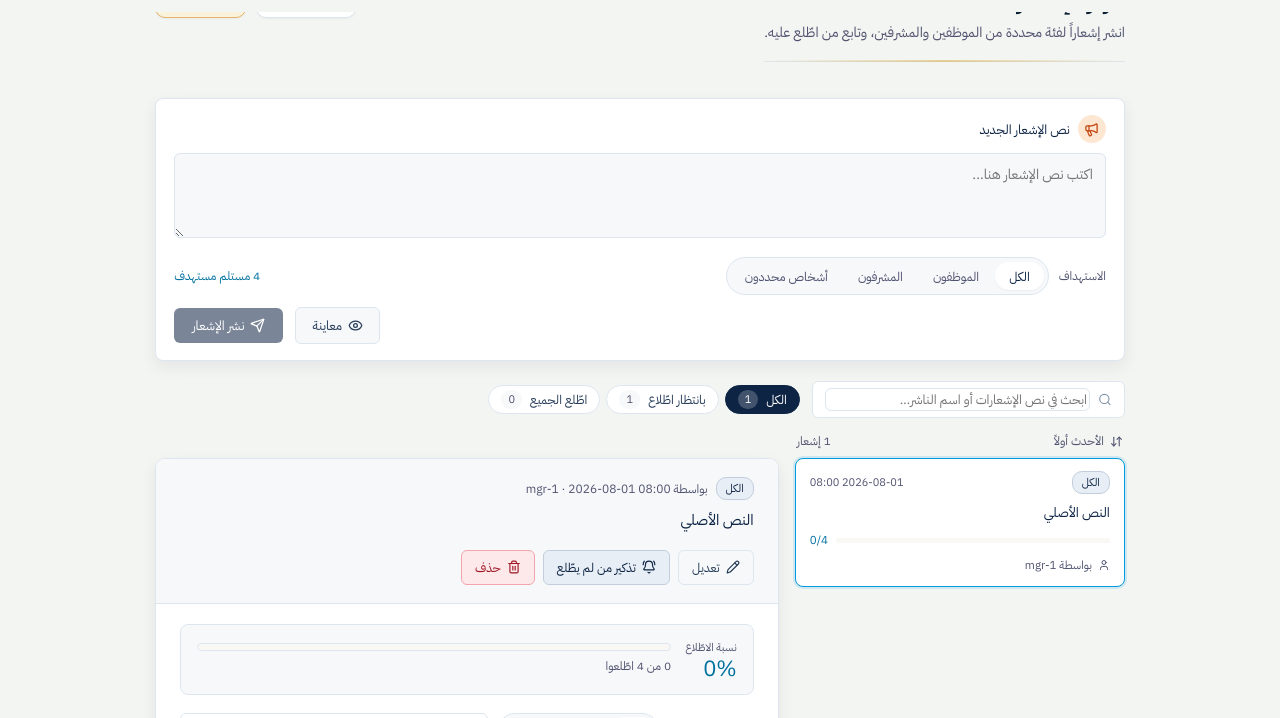
NotificationManager edit action › keeps a draft typed while the edit save was still in flight
(page scrolled)
Click the button "تعديل": click(716, 567) 678,550 -> 754,585
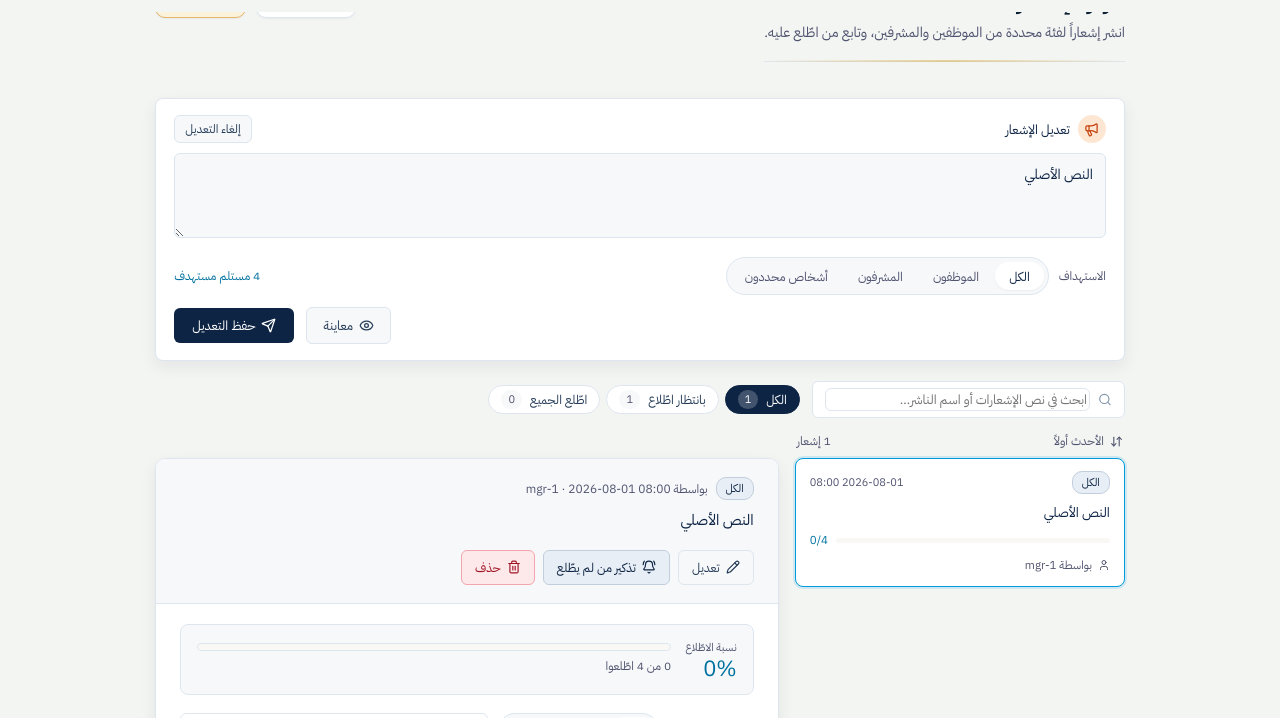
Replace the text in the text box with placeholder "اكتب نص الإشعار هنا..." with "النص المصحح": (640, 196) 174,153 -> 1106,238
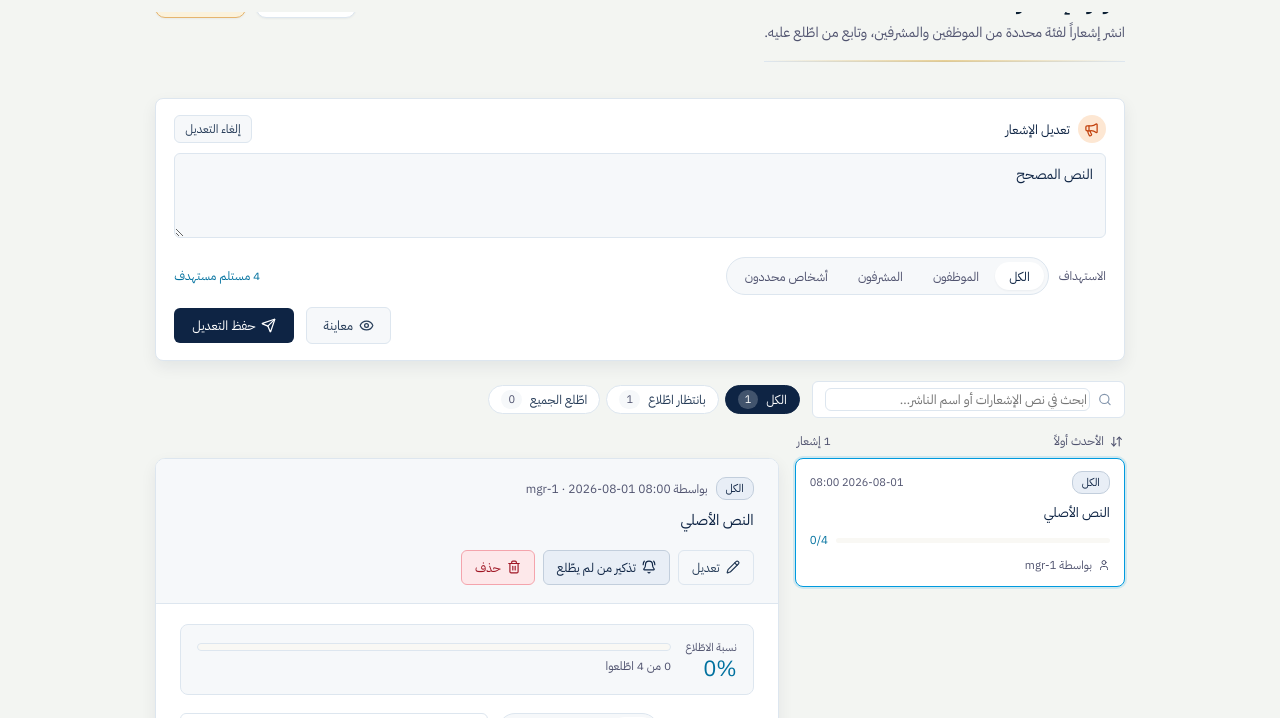
Click the button "حفظ التعديل": click(234, 326) 174,308 -> 294,343
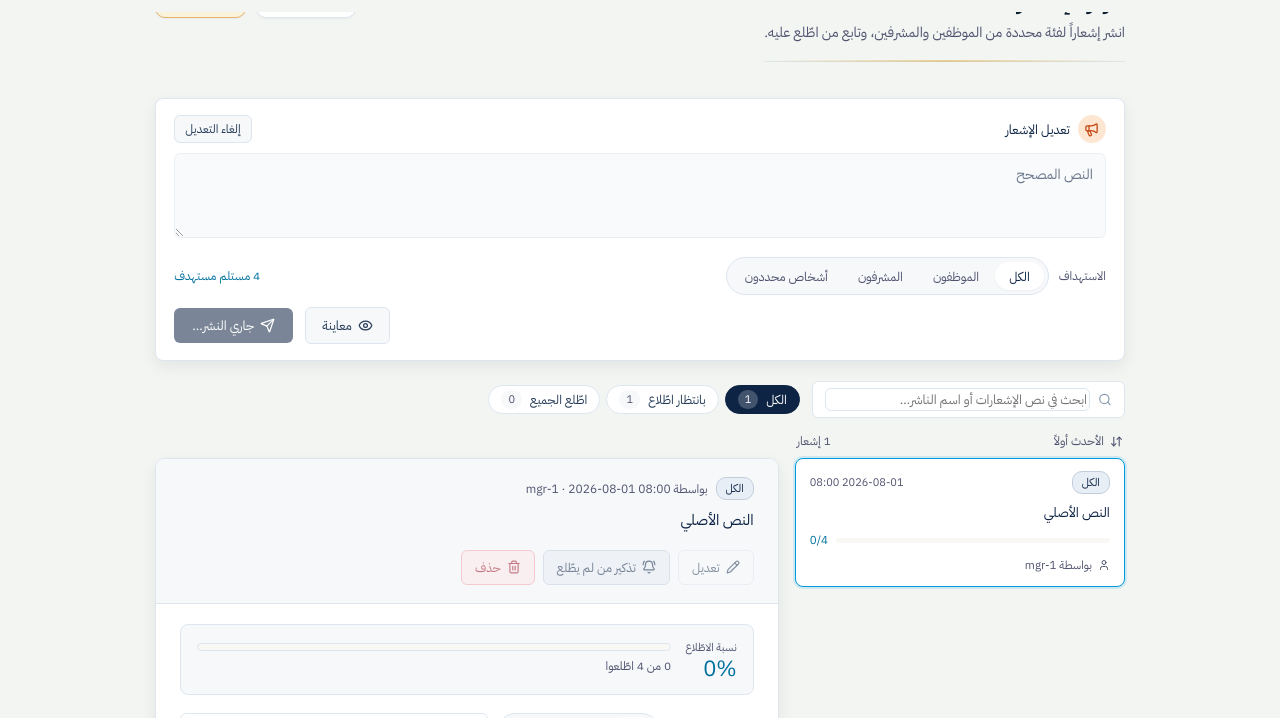
Result: the text box with placeholder "اكتب نص الإشعار هنا..." is disabled
Replace the text in the text box with placeholder "اكتب نص الإشعار هنا..." with "مسودة جديدة أثناء الحفظ": (640, 196) 174,153 -> 1106,238
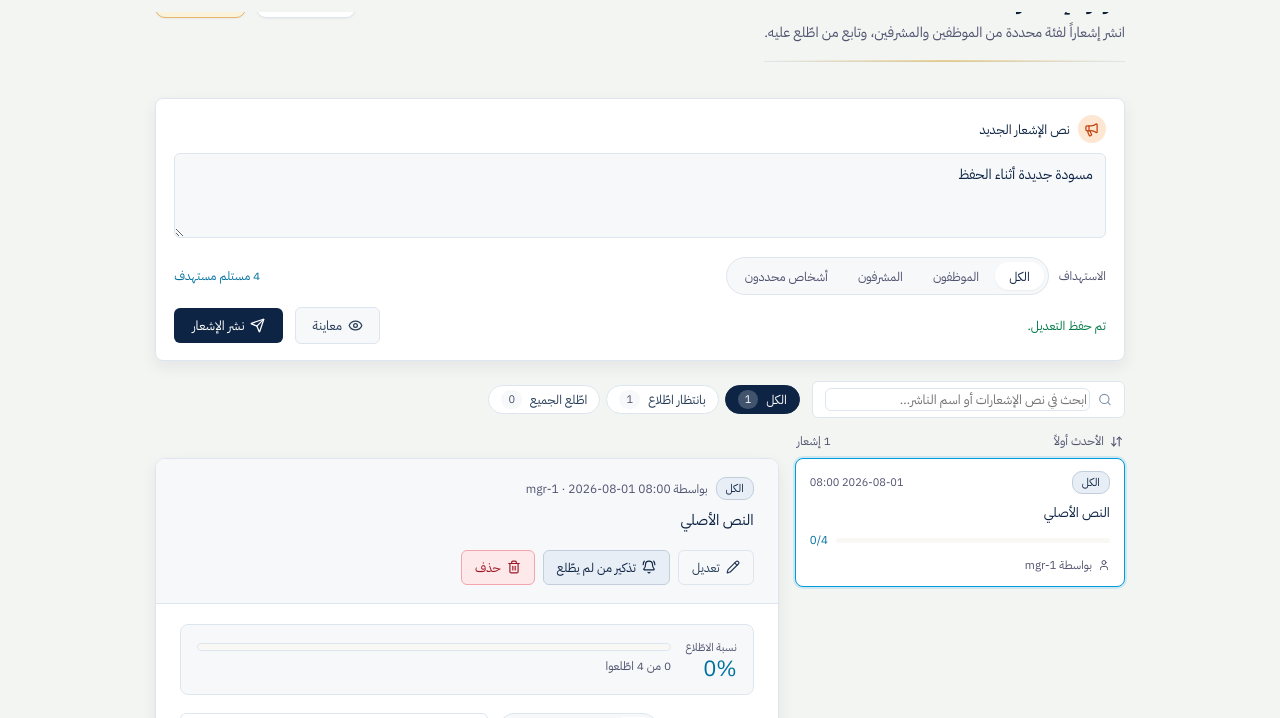
Result: the text "تم حفظ التعديل." is shown at 1027,316 -> 1106,335
Result: the button "إلغاء التعديل" is gone
